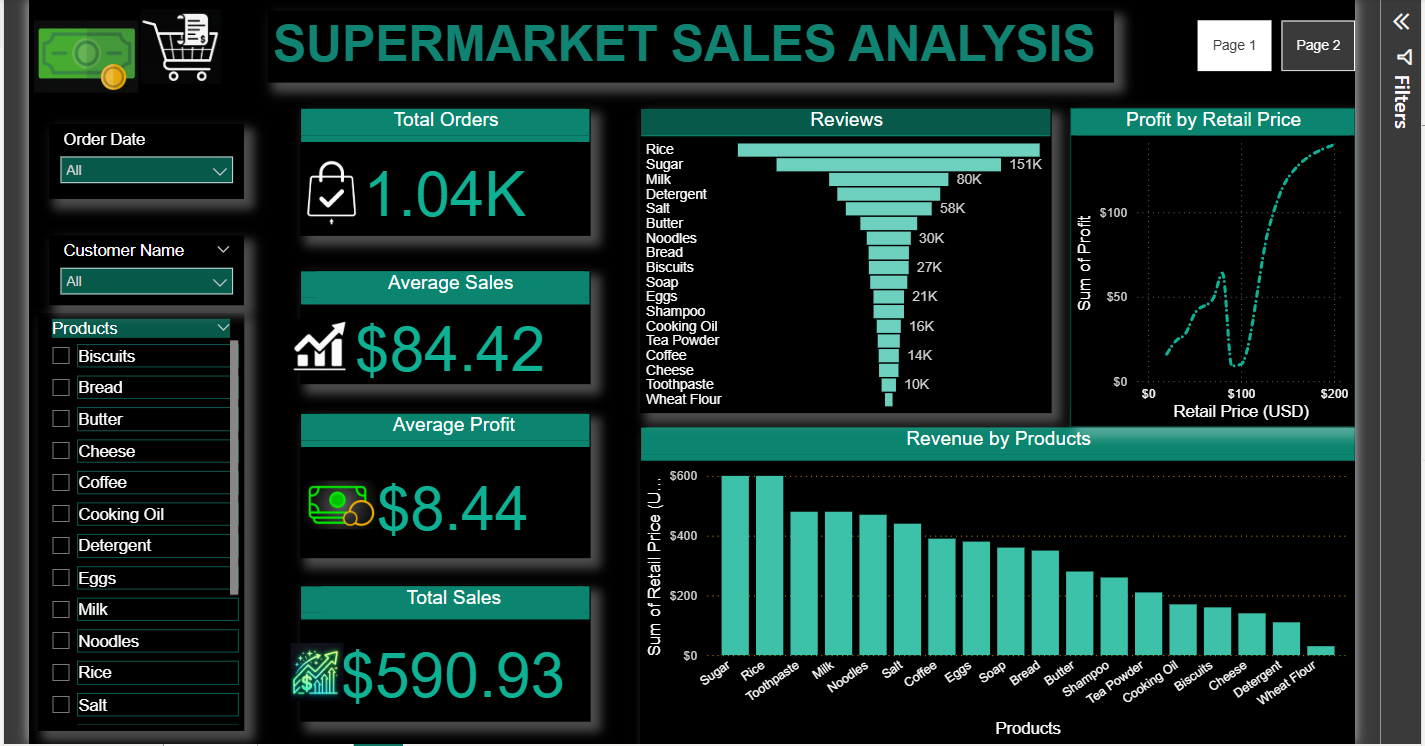

This screenshot's page, from the dashboard's own definition file:
{"tool":"powerbi","page":{"name":"Page 1","canvas":[1280,720],"ordinal":0},"visuals":[{"type":"card","title":"Average Sales","fields":{"Values":["Avg(Sheet1.Retail Price (USD))"]},"box":[262.1,263.5,279.9,109.8],"z":0},{"type":"card","title":"Average Profit","fields":{"Values":["Avg(Sheet1.Profit)"]},"box":[261.8,400.5,279.9,139.9],"z":1000},{"type":"card","title":"Total Orders","fields":{"Values":["Avg(Sheet1.Order No)"]},"box":[261.8,106.2,279.9,123.1],"z":2000},{"type":"columnChart","title":" Revenue  by Products","fields":{"Category":["Sheet1.Products"],"Y":["Sum(Sheet1.Retail Price (USD))"]},"box":[589.9,413.8,690.1,306.4],"z":3000},{"type":"funnel","title":"Reviews","fields":{"Y":["Sum(Sheet1.Reviews)"],"Category":["Sheet1.Products"]},"box":[589.9,106.2,396.9,294.4],"z":4000},{"type":"textbox","box":[230.5,12.3,816.5,70],"z":5000},{"type":"slicer","fields":{"Values":["Sheet1.Order Date"]},"box":[19.3,121.9,188.2,72.4],"z":6000},{"type":"slicer","fields":{"Values":["Sheet1.Products"]},"box":[8.4,304,199.1,403],"z":7000},{"type":"slicer","fields":{"Values":["Sheet1.Customer Name"]},"box":[19.3,229.2,188.2,67.6],"z":8000},{"type":"card","title":"Total Sales","fields":{"Values":["Sum(Sheet1.Profit)"]},"box":[261.8,567,279.9,131.5],"z":9000},{"type":"image","box":[234.6,617.5,83.7,65.9],"z":10000},{"type":"image","box":[259.3,454.2,81,71.4],"z":11000},{"type":"image","box":[259.4,146,67.6,83.2],"z":12000},{"type":"image","box":[234.6,304.6,91.9,61.7],"z":13000},{"type":"image","box":[74.8,6,143.6,82],"z":14000},{"type":"image","box":[0,12.1,111,88.1],"z":15000},{"type":"lineChart","title":"Profit by Retail Price ","fields":{"Y":["Sum(Sheet1.Profit)"],"Category":["Sheet1.Retail Price (USD)"]},"box":[1005,106.2,275.1,307.6],"z":16000},{"type":"pageNavigator","box":[1128,21.7,152,49.5],"z":16001}]}

Visuals, with their boxes on the page's 1280x720 design canvas (x1, y1, x2, y2). These are canvas units, not pixel positions in the 1425x746 screenshot, which may show the page scaled, cropped or inside an application window:
"Average Sales" card: locate(262, 264, 542, 373)
"Average Profit" card: locate(262, 400, 542, 540)
"Total Orders" card: locate(262, 106, 542, 229)
" Revenue  by Products" columnChart: locate(590, 414, 1280, 720)
"Reviews" funnel: locate(590, 106, 987, 401)
textbox: locate(230, 12, 1047, 82)
slicer - Sheet1.Order Date: locate(19, 122, 208, 194)
slicer - Sheet1.Products: locate(8, 304, 208, 707)
slicer - Sheet1.Customer Name: locate(19, 229, 208, 297)
"Total Sales" card: locate(262, 567, 542, 698)
image: locate(235, 618, 318, 683)
image: locate(259, 454, 340, 526)
image: locate(259, 146, 327, 229)
image: locate(235, 305, 326, 366)
image: locate(75, 6, 218, 88)
image: locate(0, 12, 111, 100)
"Profit by Retail Price " lineChart: locate(1005, 106, 1280, 414)
pageNavigator: locate(1128, 22, 1280, 71)
